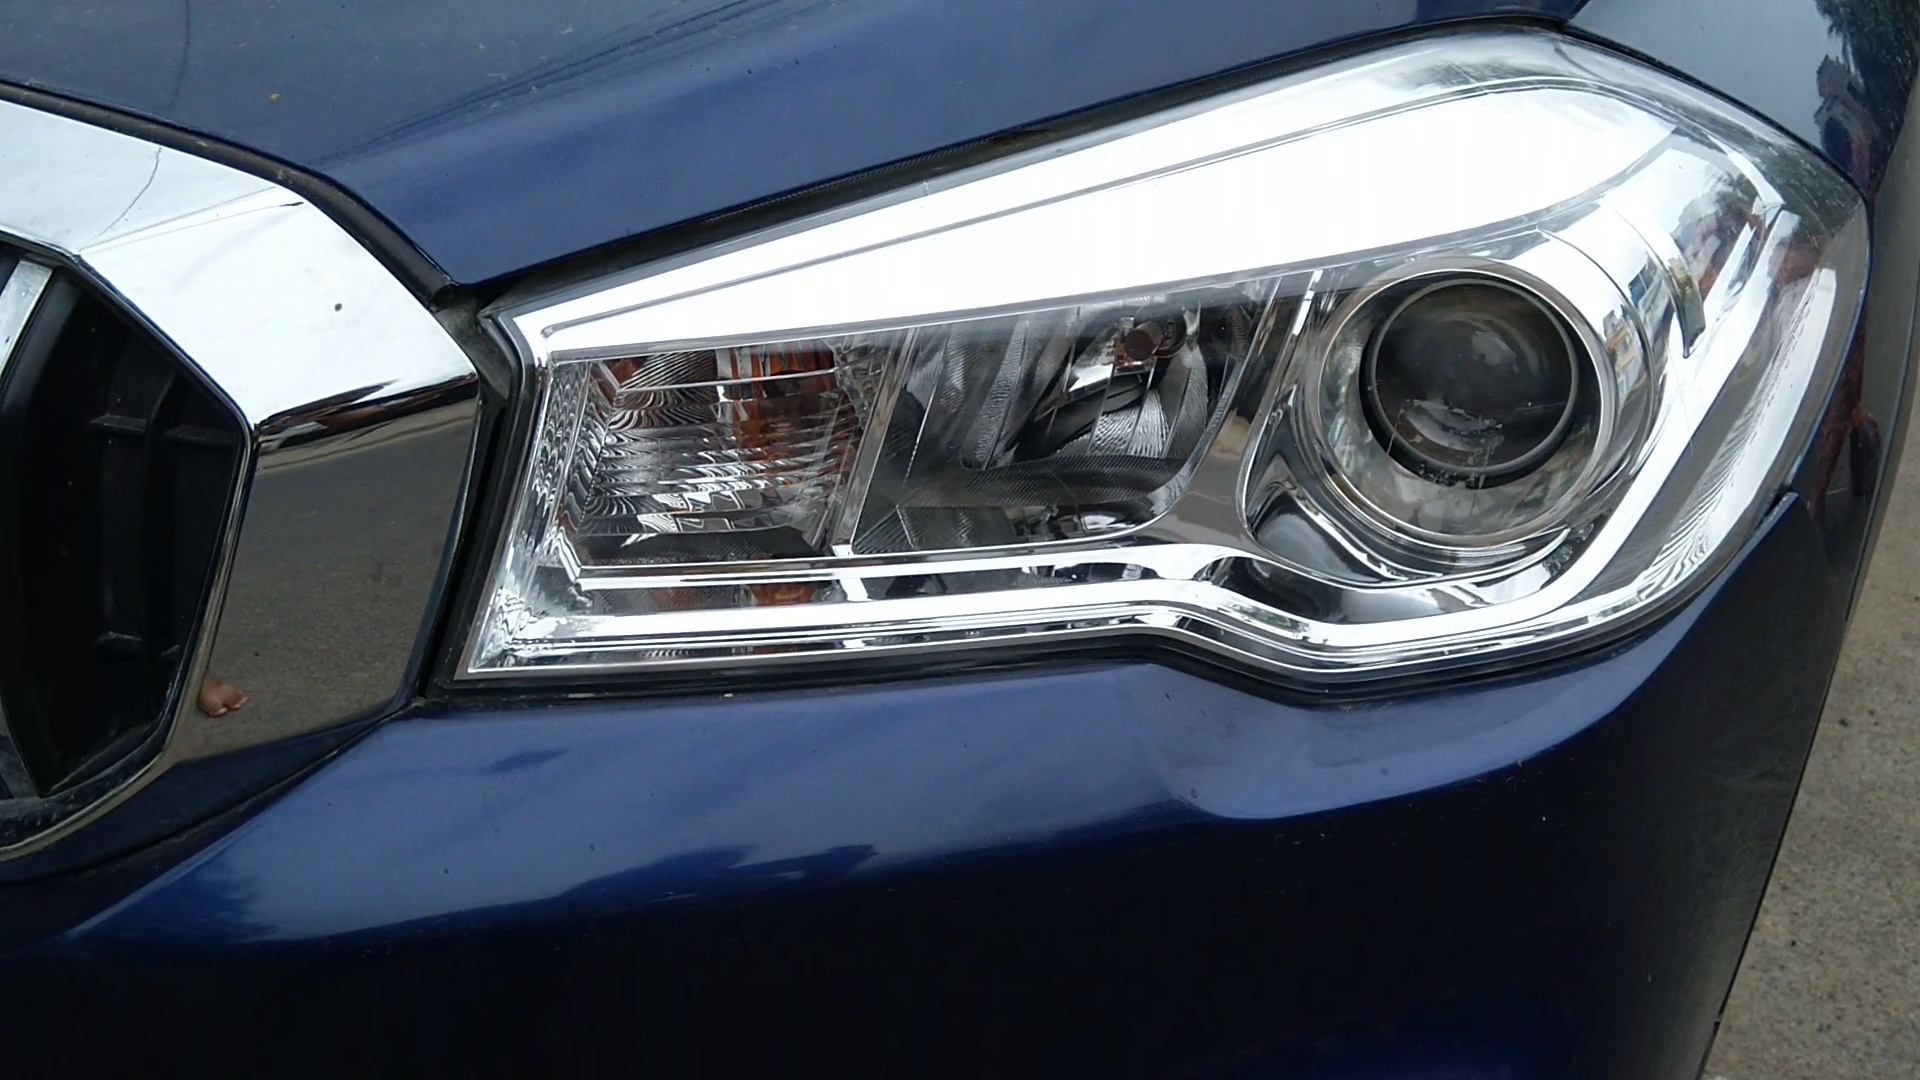headlamp: (404, 1, 1888, 822)
